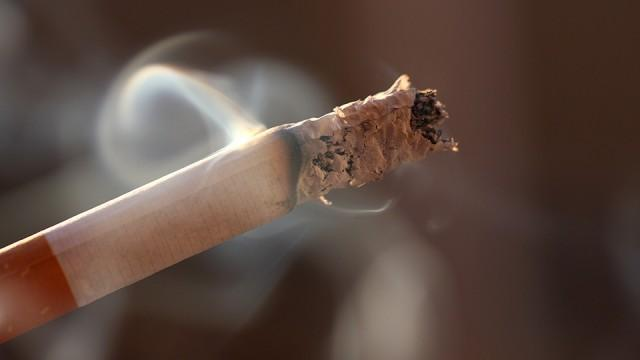Smoking: (0, 76, 460, 346)
